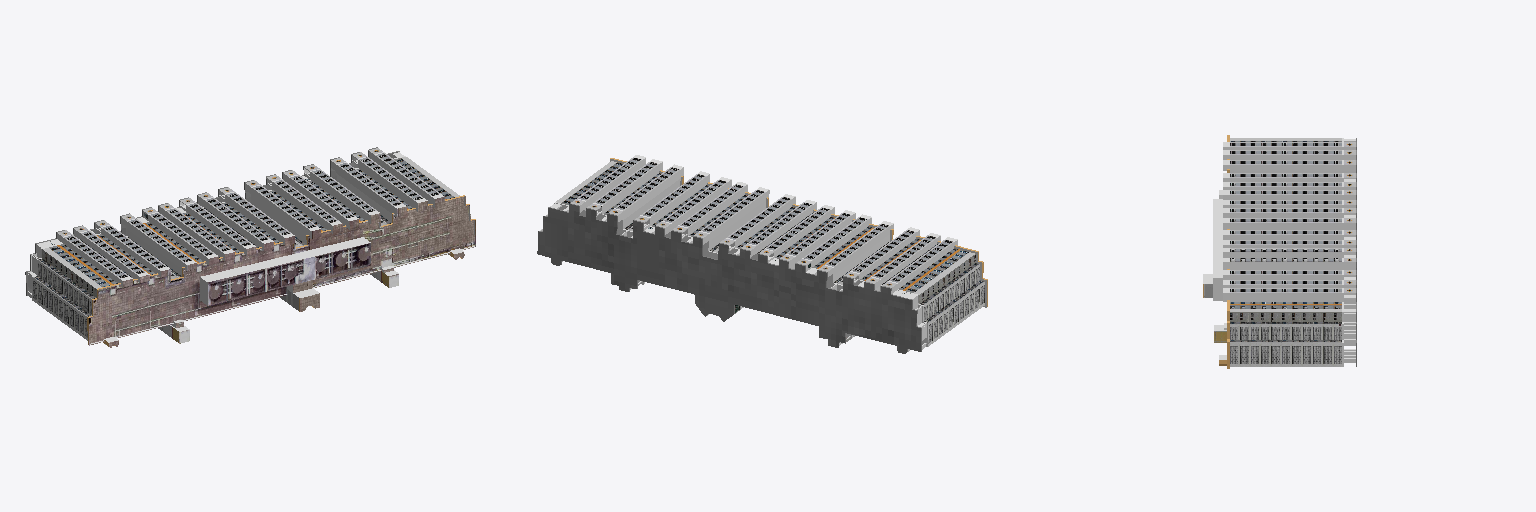
3 renders of one model, left to right at view 1: azimuth 30°, elevation 25°; view 2: azimuth 150°, elevation 25°; view 3: azimuth 270°, elevation 25°, orthographic.
Visible parts, largest first — view 1: polygon.817; view 2: polygon.817; view 3: polygon.817.
Part boxes in pixels (left/top/right/bottom): polygon.817: left=25, top=147, right=475, bottom=347; polygon.817: left=537, top=155, right=987, bottom=353; polygon.817: left=1203, top=135, right=1356, bottom=368.
Bounding box in the file's own units: 123 × 25.05 × 42.39.
Materials: 1 (1 with a texture image).